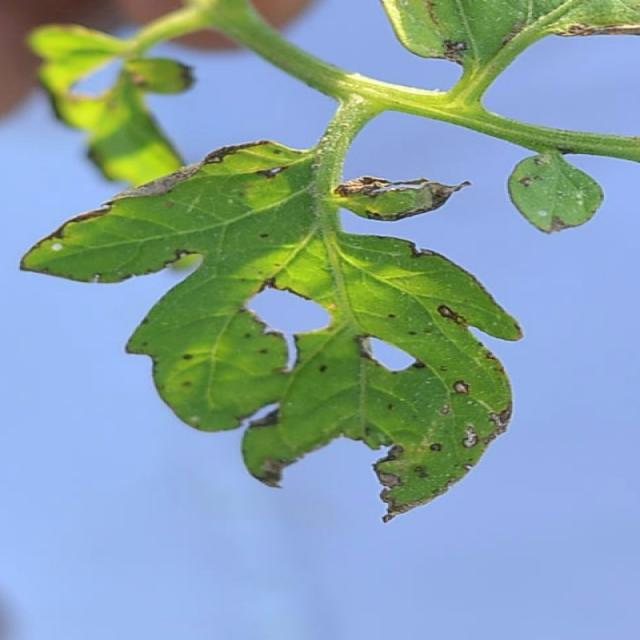infected: (44, 145, 507, 519), (393, 6, 637, 73), (55, 47, 151, 118), (523, 159, 606, 233)
